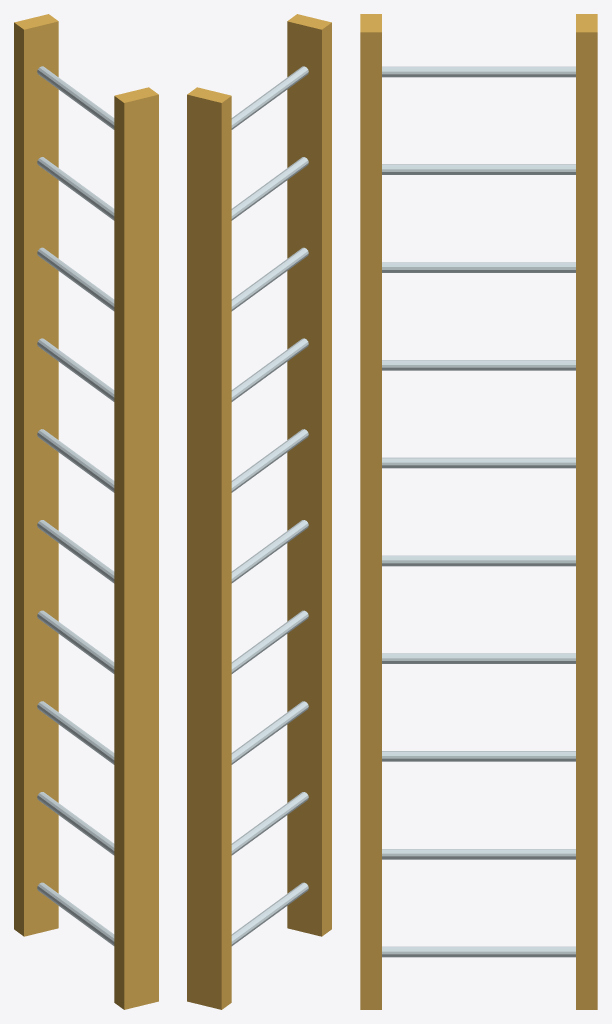
The model's file is ladder_metal_1_segment.fbx.
The picture shows the model from 3 angles, left to right: view 1: azimuth 30°, elevation 25°; view 2: azimuth 150°, elevation 25°; view 3: azimuth 270°, elevation 25°; orthographic projection. The views are drawn at different scales.
Parts seen in each view (by area): view 1: Segment; view 2: Segment; view 3: Segment.
Part boxes in pixels (x1,y1,x2,y2): Segment: (14,14,158,1009); Segment: (187,14,331,1009); Segment: (360,14,597,1009).
Bounding box in the file's own units: 20 × 500 × 110.
